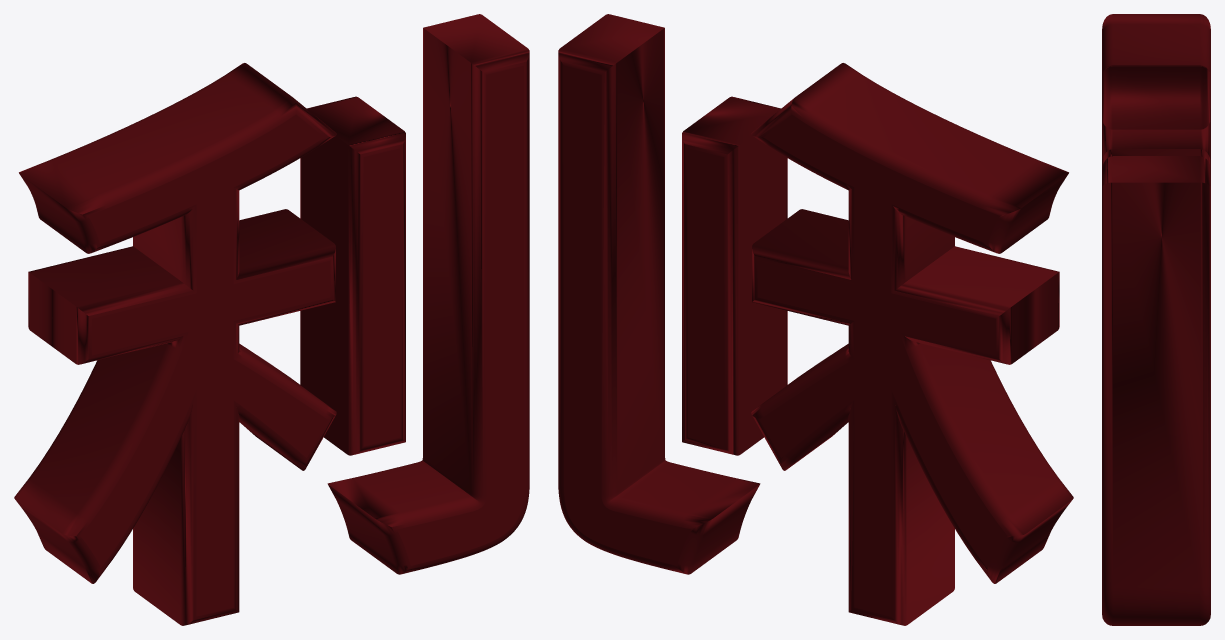
File: MottoLei.fbx
3 views of the same model, side by side, from view 1: azimuth 30°, elevation 25°; view 2: azimuth 150°, elevation 25°; view 3: azimuth 270°, elevation 25° (orthographic). The views are drawn at different scales.
Parts seen in each view (by area): view 1: 文本.133; view 2: 文本.133; view 3: 文本.133.
Part boxes in pixels (<box>): 文本.133: <box>14,14,529,625</box>; 文本.133: <box>558,14,1073,625</box>; 文本.133: <box>1102,14,1210,625</box>.
Bounding box in the file's own units: 93.19 × 20 × 95.86.
